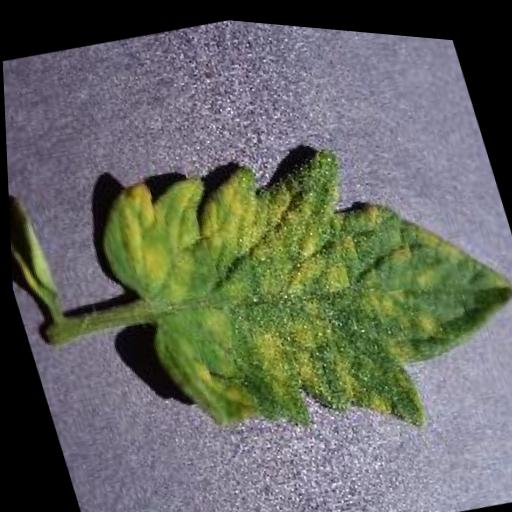Leaf Mold: (76, 81, 512, 496)
